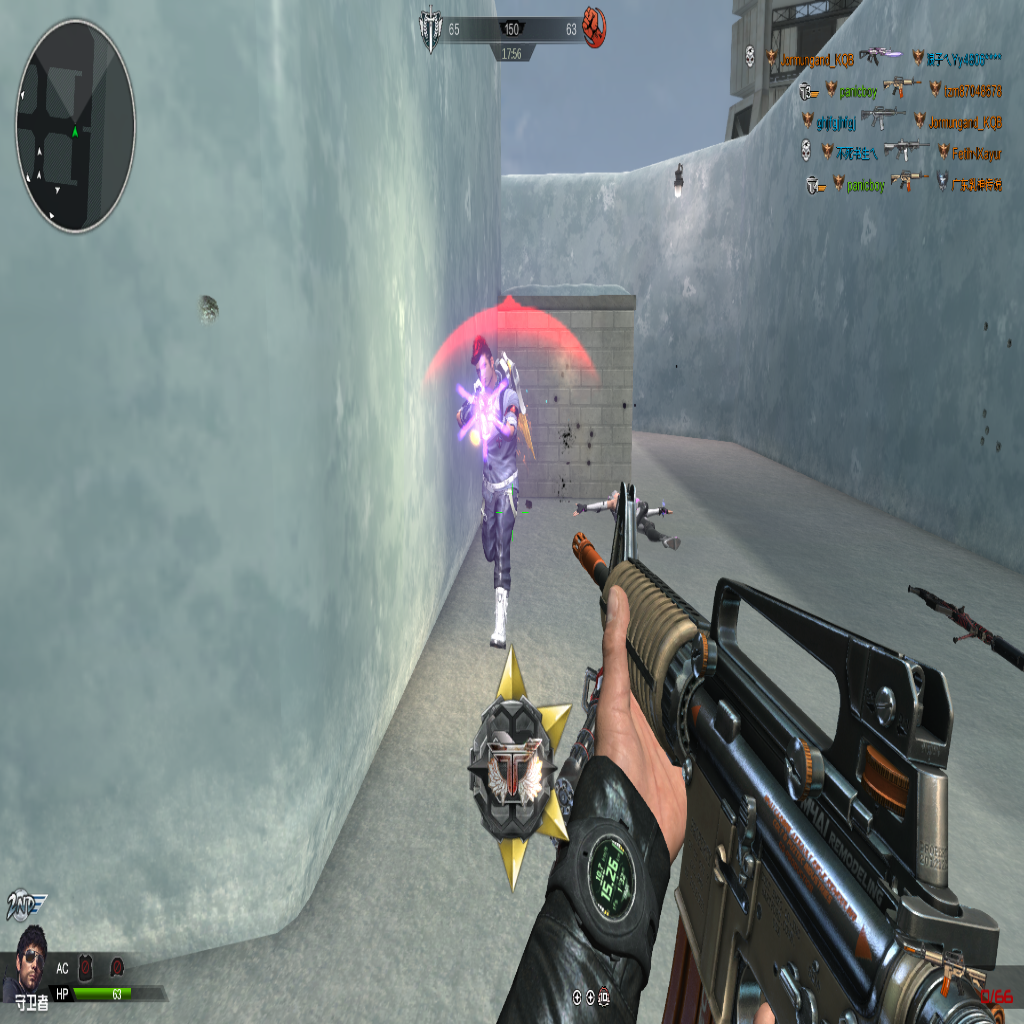tt: (457, 338, 527, 674)
